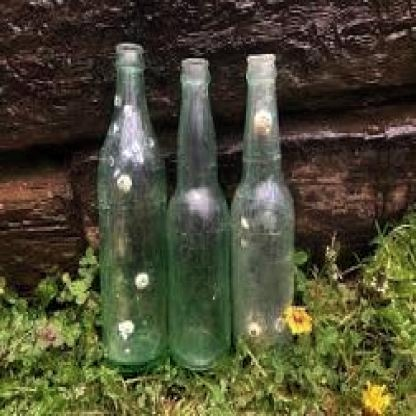gbottle: (97, 44, 170, 374), (166, 60, 233, 372), (230, 56, 296, 352)
